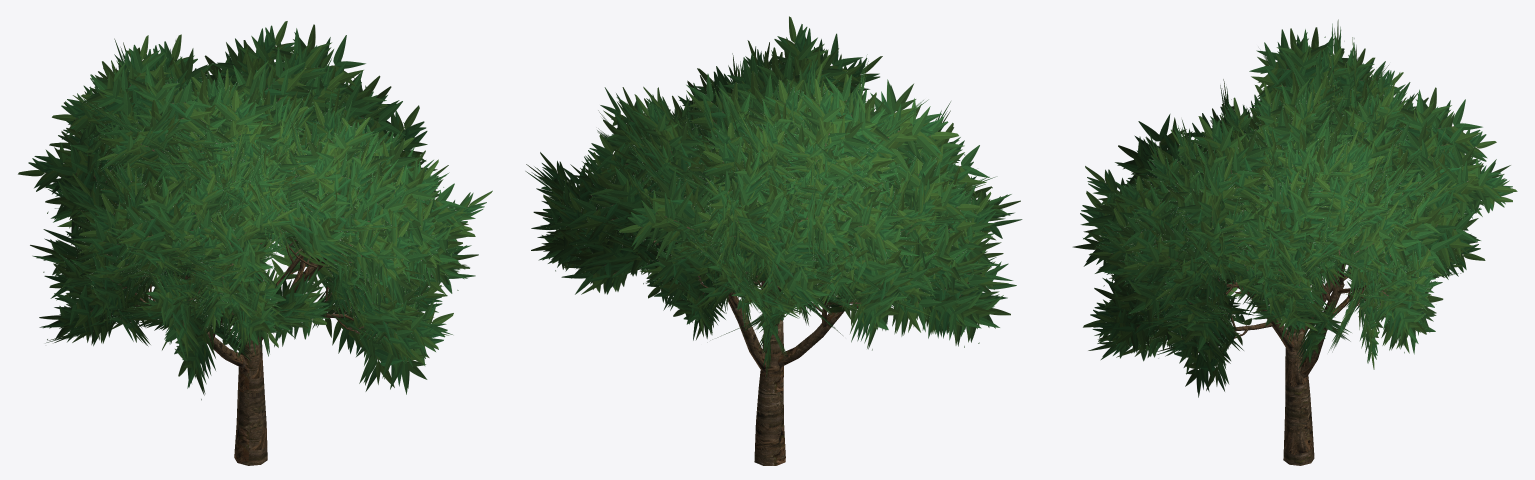
File: veg_tree_mango_a.glb
3 renders of one model, left to right at view 1: azimuth 30°, elevation 25°; view 2: azimuth 150°, elevation 25°; view 3: azimuth 270°, elevation 25°, orthographic. The views are drawn at different scales.
Visible parts, largest first — view 1: Leaves, Trunk; view 2: Leaves, Trunk; view 3: Leaves, Trunk.
Boxes of the visible parts, bbox=[...] form: Leaves: bbox=[18, 21, 492, 400]; Trunk: bbox=[135, 152, 354, 465]; Leaves: bbox=[525, 16, 1022, 377]; Trunk: bbox=[653, 184, 858, 465]; Leaves: bbox=[1073, 19, 1517, 397]; Trunk: bbox=[1182, 188, 1383, 465].
Size of the model in its own units: 45.04 by 42.32 by 43.96.
2 materials, 2 textured.
